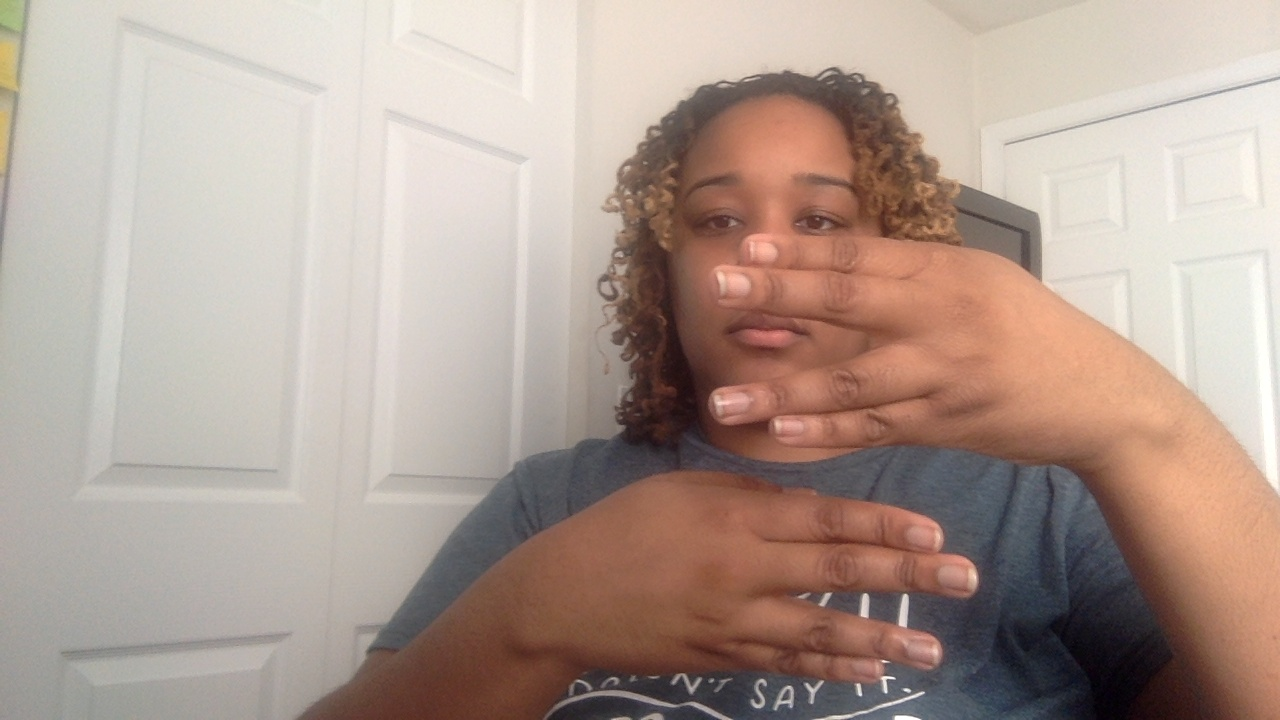world: (489, 217, 1116, 720)
